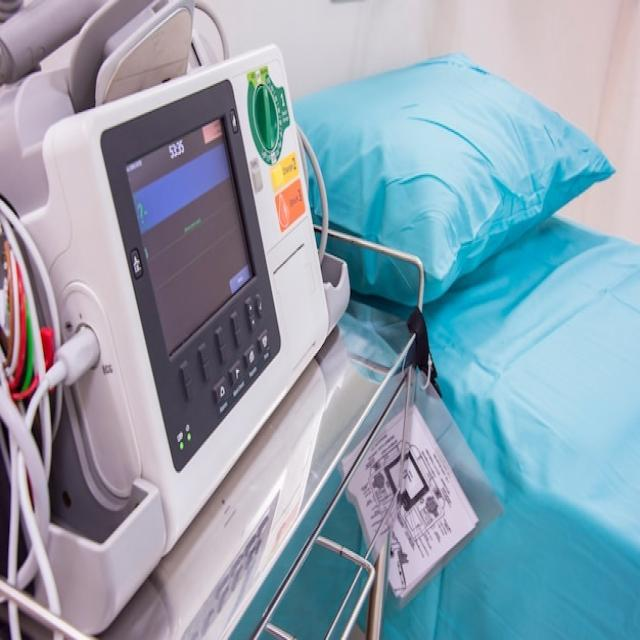Monitor: (2, 16, 426, 640)
bed: (298, 0, 638, 640)
